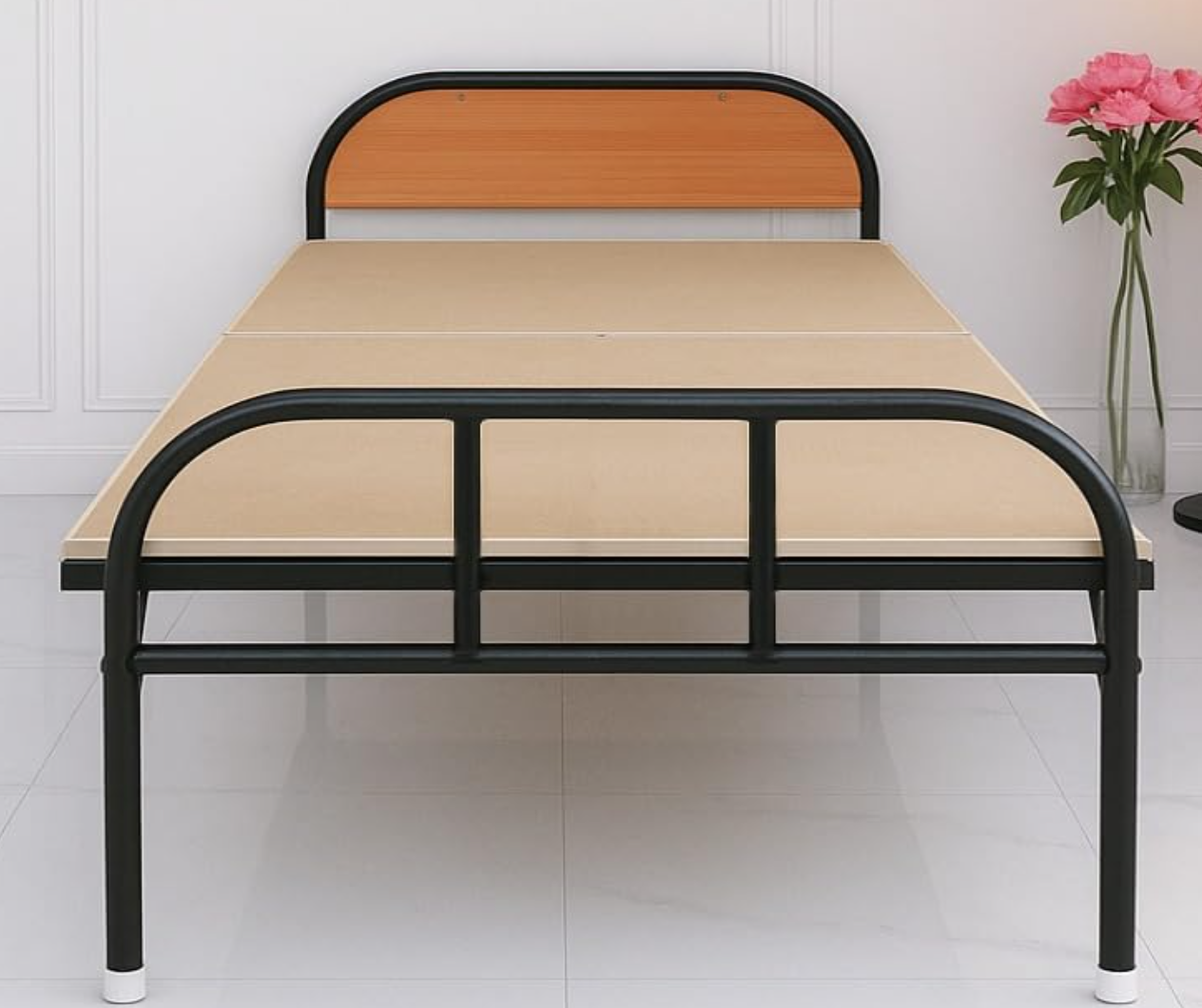cot: (61, 56, 1169, 1005)
